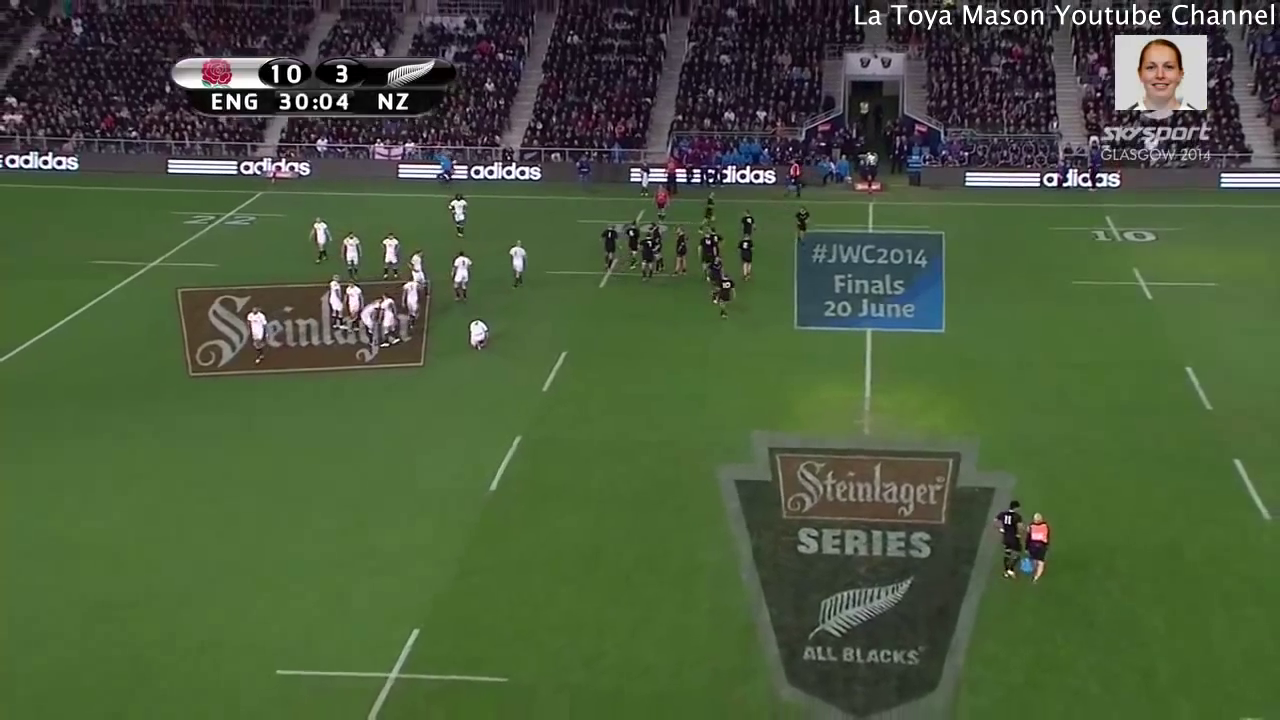10_metre: (264, 627, 518, 720), (1059, 256, 1233, 313), (1039, 212, 1198, 247), (542, 259, 682, 291), (574, 206, 691, 236)
player: (989, 494, 1025, 589), (1018, 506, 1057, 591), (303, 213, 336, 274), (243, 302, 272, 370), (324, 271, 351, 333), (446, 249, 475, 306), (373, 231, 405, 282), (353, 294, 382, 349), (336, 228, 364, 284), (375, 293, 403, 349), (711, 270, 739, 326), (398, 276, 424, 332), (596, 223, 622, 277), (506, 238, 532, 290), (645, 222, 669, 275), (621, 218, 642, 273), (405, 244, 428, 294), (735, 232, 757, 284), (446, 191, 470, 238), (344, 279, 364, 334), (465, 316, 494, 353), (671, 222, 690, 278), (638, 230, 656, 286), (697, 191, 720, 234), (696, 231, 716, 277), (649, 183, 672, 222), (704, 254, 723, 298), (793, 205, 811, 251), (739, 208, 761, 244), (710, 227, 727, 264)
